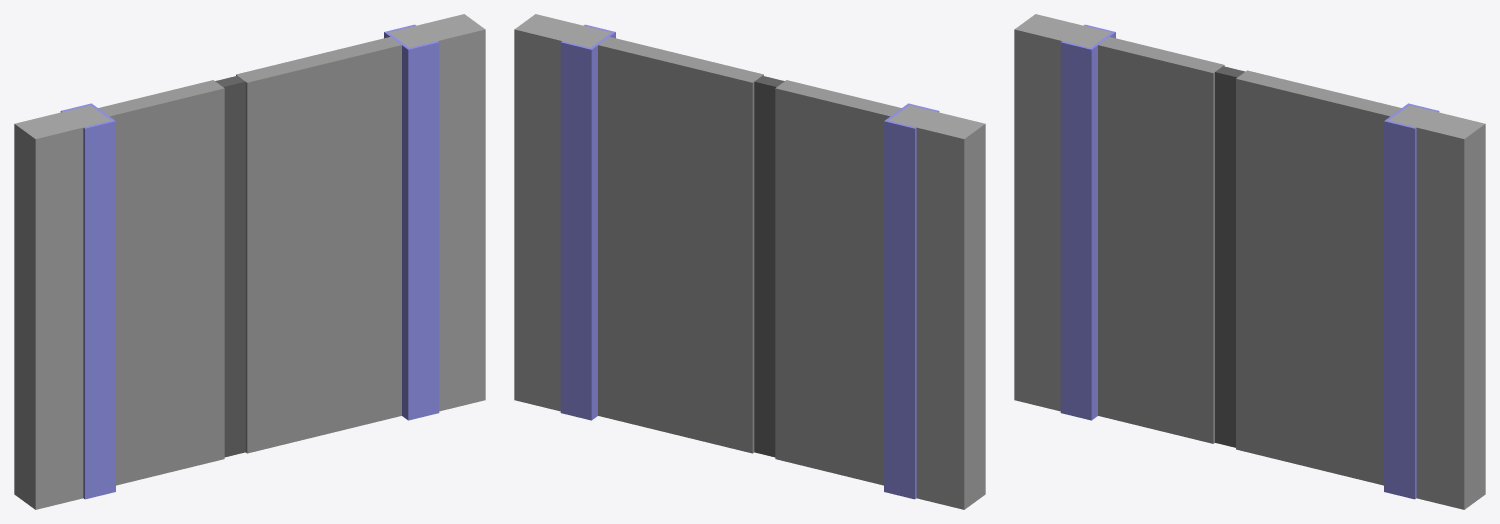
Rendered from Operating room Door2-4-1(Bottom).fbx.
3 renders of one model, left to right at view 1: azimuth 30°, elevation 25°; view 2: azimuth 150°, elevation 25°; view 3: azimuth 330°, elevation 25°, orthographic.
Visible parts, largest first — view 1: Operating room Door2-4-1(Bottom).004, Operating room Door2-4-1(Bottom).003, Operating room Door2-4-1(Bottom).001, Operating room Door2-4-1(Bottom), Operating room Door2-4-1(Bottom).005, Operating room Door2-4-1(Bottom).002; view 2: Operating room Door2-4-1(Bottom).004, Operating room Door2-4-1(Bottom).003, Operating room Door2-4-1(Bottom).001, Operating room Door2-4-1(Bottom), Operating room Door2-4-1(Bottom).005, Operating room Door2-4-1(Bottom).002; view 3: Operating room Door2-4-1(Bottom).004, Operating room Door2-4-1(Bottom).003, Operating room Door2-4-1(Bottom), Operating room Door2-4-1(Bottom).001, Operating room Door2-4-1(Bottom).002, Operating room Door2-4-1(Bottom).005.
Part boxes in pixels (x1,y1,x2,y2): Operating room Door2-4-1(Bottom).004: (226,37,401,454); Operating room Door2-4-1(Bottom).003: (98,78,234,485); Operating room Door2-4-1(Bottom).001: (14,112,83,509); Operating room Door2-4-1(Bottom): (417,14,485,411); Operating room Door2-4-1(Bottom).005: (384,24,439,420); Operating room Door2-4-1(Bottom).002: (60,103,115,499); Operating room Door2-4-1(Bottom).004: (598,37,773,454); Operating room Door2-4-1(Bottom).003: (765,78,901,485); Operating room Door2-4-1(Bottom).001: (916,112,985,509); Operating room Door2-4-1(Bottom): (514,14,582,411); Operating room Door2-4-1(Bottom).005: (560,24,615,420); Operating room Door2-4-1(Bottom).002: (884,103,939,499); Operating room Door2-4-1(Bottom).004: (1226,69,1401,485); Operating room Door2-4-1(Bottom).003: (1098,37,1233,445); Operating room Door2-4-1(Bottom): (1416,112,1485,509); Operating room Door2-4-1(Bottom).001: (1014,14,1082,411); Operating room Door2-4-1(Bottom).002: (1060,24,1115,420); Operating room Door2-4-1(Bottom).005: (1384,103,1439,499).
Bounding box in the file's own units: 1600 × 1260 × 150.
